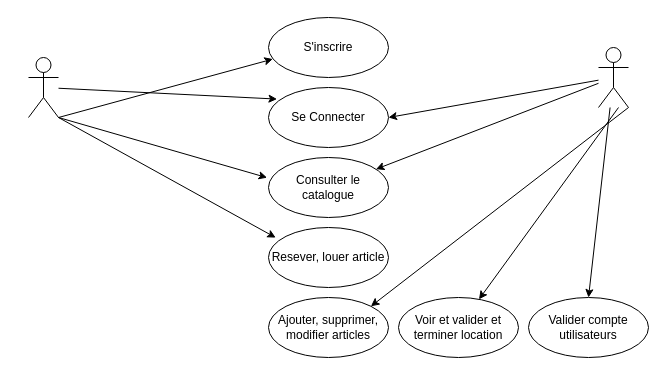
Some shapes in this 666 by 375 pixel diagram are drawn without their labels. The centre of each missing label's shape, as x and y in pixels:
"Employé" goes at point (613, 77).
"Utilisateur" goes at point (43, 87).
